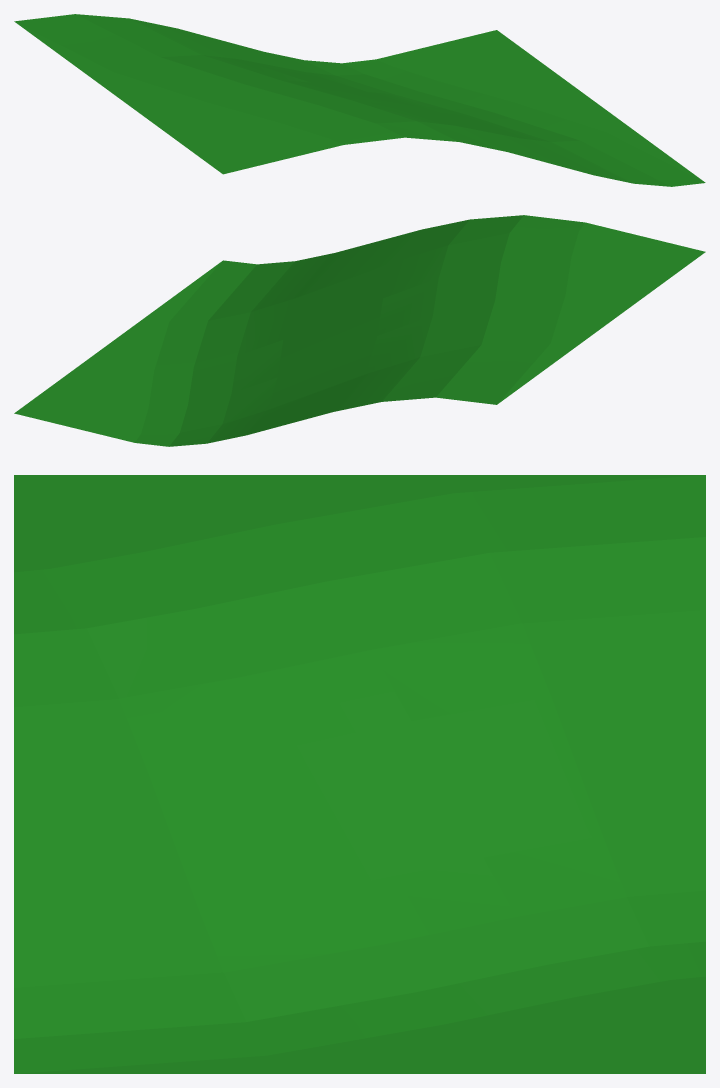
File: Terrain_Hill_Esse_3x4.obj
3 renders of one model, top to bottom at view 1: azimuth 30°, elevation 25°; view 2: azimuth 150°, elevation 25°; view 3: azimuth 270°, elevation 25°, orthographic. The views are drawn at different scales.
Parts seen in each view (by area): view 1: Grass; view 2: Grass; view 3: Grass.
Boxes of the visible parts, box(x1,y1,x2,y2) form: Grass: box(14, 14, 705, 186); Grass: box(14, 215, 705, 446); Grass: box(14, 475, 705, 1073).
Bounding box in the file's own units: 4 × 1 × 3.
